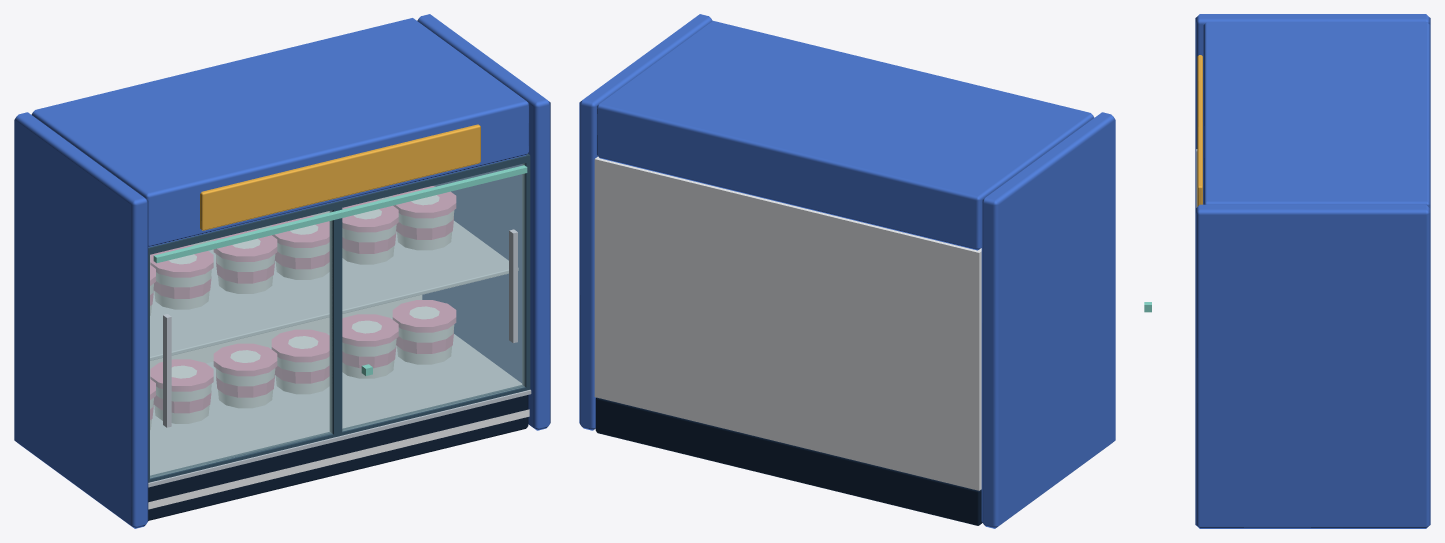
Rendered from CM_Fixture_FreezerUpright.fbx.
3 views of the same model, side by side, from view 1: azimuth 30°, elevation 25°; view 2: azimuth 150°, elevation 25°; view 3: azimuth 270°, elevation 25° (orthographic). The views are drawn at different scales.
Visible parts, largest first — view 1: Body, Glass, PriceTag, Item2, Item3, Item5, Item6, LightStrip, Item4, Item1; view 2: Body; view 3: Body, PriceTag.
Part boxes in pixels (x1,y1,x2,y2): Body: [14, 14, 550, 528]; Glass: [150, 163, 524, 478]; PriceTag: [200, 124, 480, 230]; Item2: [213, 329, 329, 408]; Item3: [342, 300, 456, 378]; Item5: [213, 215, 329, 293]; Item6: [342, 186, 456, 264]; LightStrip: [153, 165, 527, 263]; Item4: [150, 245, 213, 315]; Item1: [150, 359, 213, 429]; Body: [579, 14, 1115, 528]; Body: [1195, 14, 1430, 528]; PriceTag: [1197, 55, 1202, 206].
Bounding box in the file's own units: 12 × 7.3 × 9.
2 materials, 2 textured.
